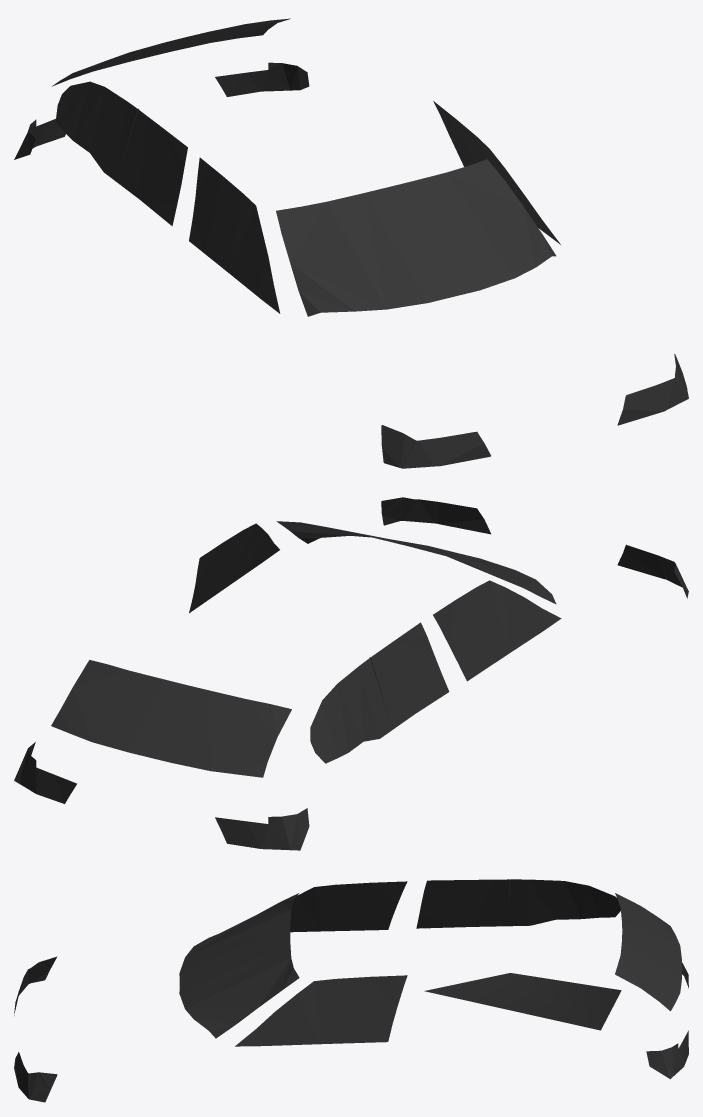
The model's file is LK4_glass_d1.obj.
The picture shows the model from 3 angles, top to bottom: view 1: azimuth 30°, elevation 25°; view 2: azimuth 150°, elevation 25°; view 3: azimuth 270°, elevation 25°; orthographic projection. The views are drawn at different scales.
Parts seen in each view (by area): view 1: LK4_body.005, LK4_body.003, LK4_body.004, LK4_body.010, LK4_body.002, LK4_body.006, LK4_body.007, LK4_body.009, LK4_body.008; view 2: LK4_body.002, LK4_body.003, LK4_body.004, LK4_body.006, LK4_body.008, LK4_body.005, LK4_body.009, LK4_body.007, LK4_body.010; view 3: LK4_body.005, LK4_body.003, LK4_body.006, LK4_body.001, LK4_body.002, LK4_body.004, LK4_body.009, LK4_body.007, LK4_body.010.
Boxes of the visible parts, bbox=[...] form: LK4_body.005: bbox=[276, 159, 556, 316]; LK4_body.003: bbox=[55, 81, 187, 226]; LK4_body.004: bbox=[189, 157, 280, 313]; LK4_body.010: bbox=[381, 425, 490, 468]; LK4_body.002: bbox=[52, 18, 290, 86]; LK4_body.006: bbox=[433, 101, 560, 244]; LK4_body.007: bbox=[215, 62, 309, 96]; LK4_body.009: bbox=[617, 354, 688, 425]; LK4_body.008: bbox=[14, 119, 65, 159]; LK4_body.002: bbox=[51, 660, 291, 777]; LK4_body.003: bbox=[310, 622, 449, 763]; LK4_body.004: bbox=[433, 580, 561, 681]; LK4_body.006: bbox=[189, 523, 279, 613]; LK4_body.008: bbox=[215, 808, 309, 850]; LK4_body.005: bbox=[276, 521, 556, 604]; LK4_body.009: bbox=[381, 497, 490, 534]; LK4_body.007: bbox=[14, 742, 76, 803]; LK4_body.010: bbox=[617, 544, 688, 598]; LK4_body.005: bbox=[179, 893, 299, 1038]; LK4_body.003: bbox=[416, 879, 620, 928]; LK4_body.006: bbox=[235, 975, 407, 1046]; LK4_body.001: bbox=[424, 973, 621, 1030]; LK4_body.002: bbox=[615, 893, 682, 1011]; LK4_body.004: bbox=[290, 881, 407, 932]; LK4_body.009: bbox=[14, 1052, 57, 1102]; LK4_body.007: bbox=[646, 1030, 688, 1079]; LK4_body.010: bbox=[14, 956, 57, 1015].
Bounding box in the file's own units: 1.76 × 0.7798 × 4.11.
1 material, 1 textured.
